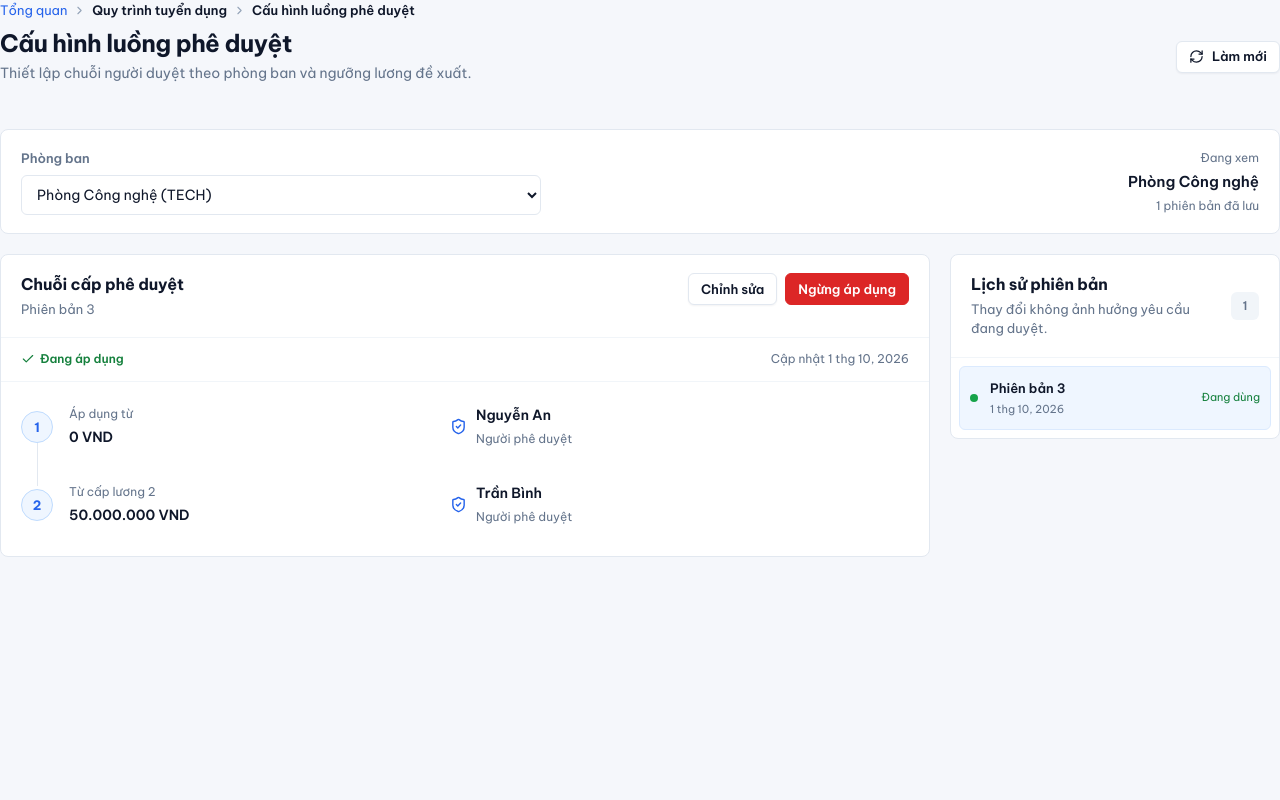
ApprovalConfigurationPage (S3-01) › asks for confirmation before deactivating the active configuration
Click the button "Ngừng áp dụng" at (847, 289), box [785,273,909,305]
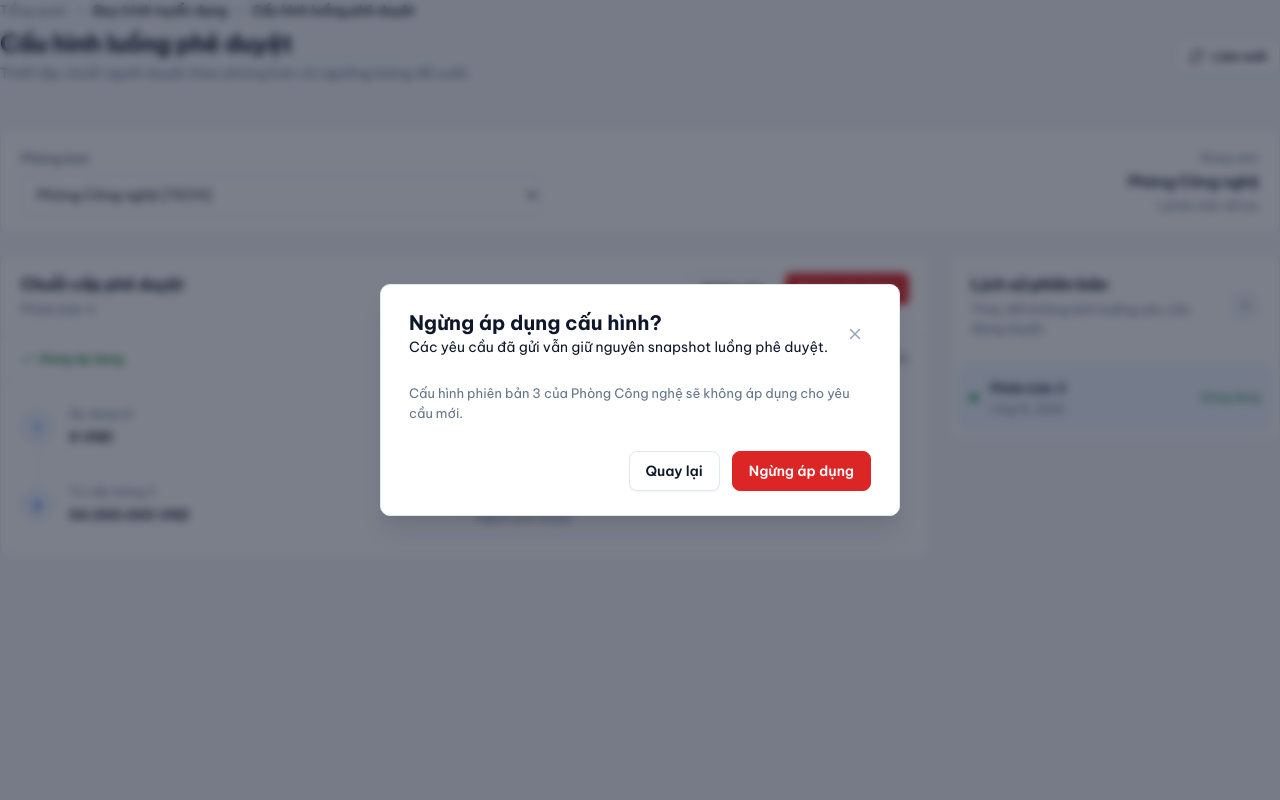
Expected: the dialog is shown, [380,284,900,516]
Expected: the text "Các yêu cầu đã gửi vẫn giữ nguyên snapshot luồng phê duyệt." is shown, [409,337,828,359]
Click the button "Ngừng áp dụng" at (801, 471), box [732,451,871,491]
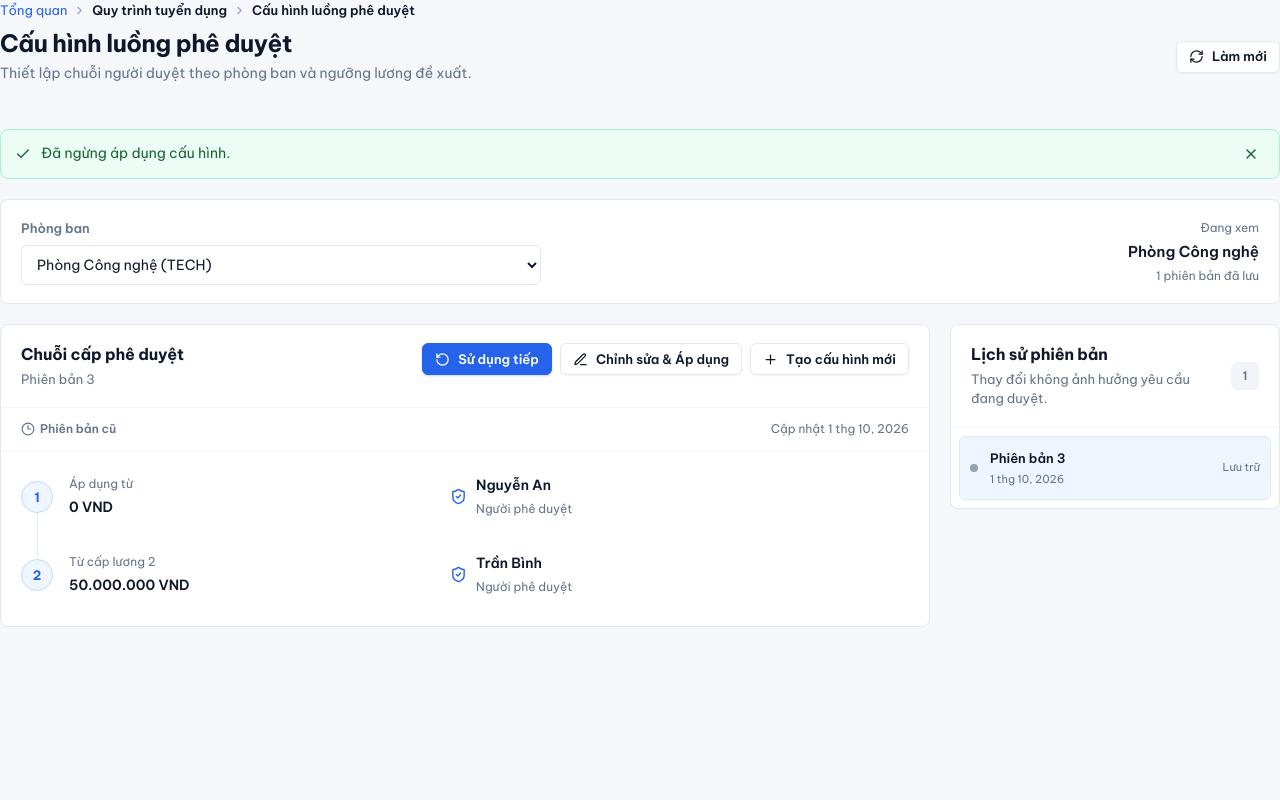
Expected: the text "Đã ngừng áp dụng cấu hình." is shown, [41,144,230,162]
Expected: the text "Phiên bản cũ" is shown, [21,420,116,439]
